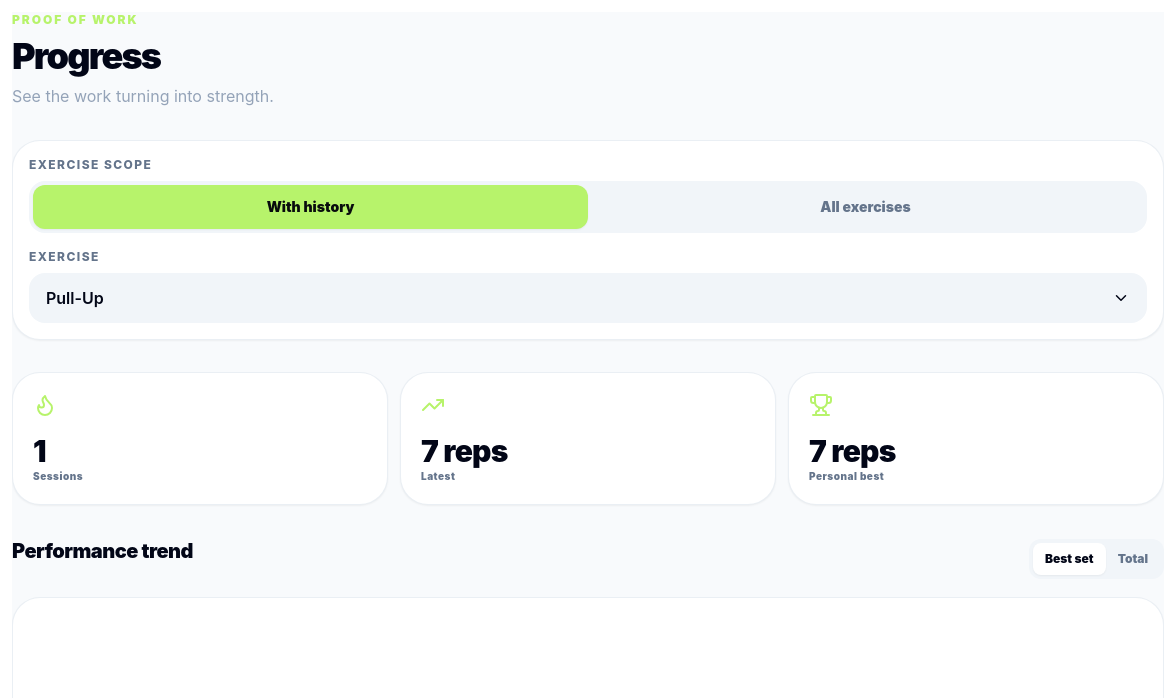
Scenario: Progress exercise scope › defaults to history, selects the most recent exercise, and excludes unperformed exercises
Click the dropdown named "Exercise".
click(75, 298)  # box [29,273,1147,323]
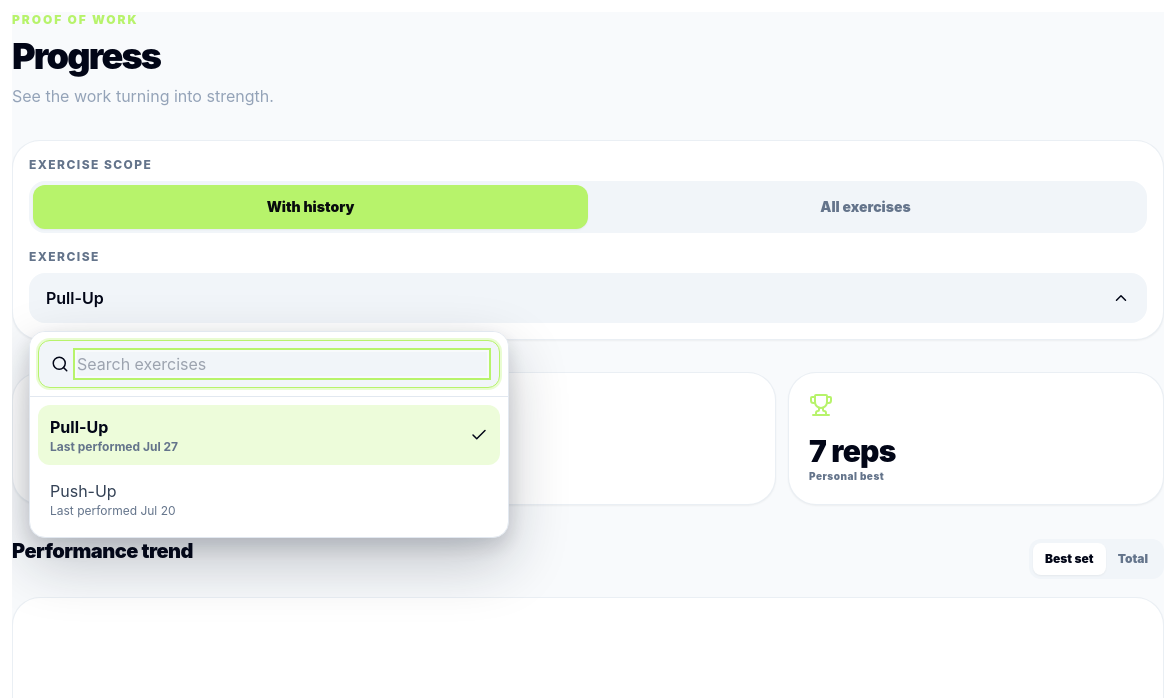
Expected: the number of options is 2, [38,405,500,465]; [38,469,500,529]
Expected: the option "Pull-Up Last performed Jul 27" is shown, [38,405,500,465]
